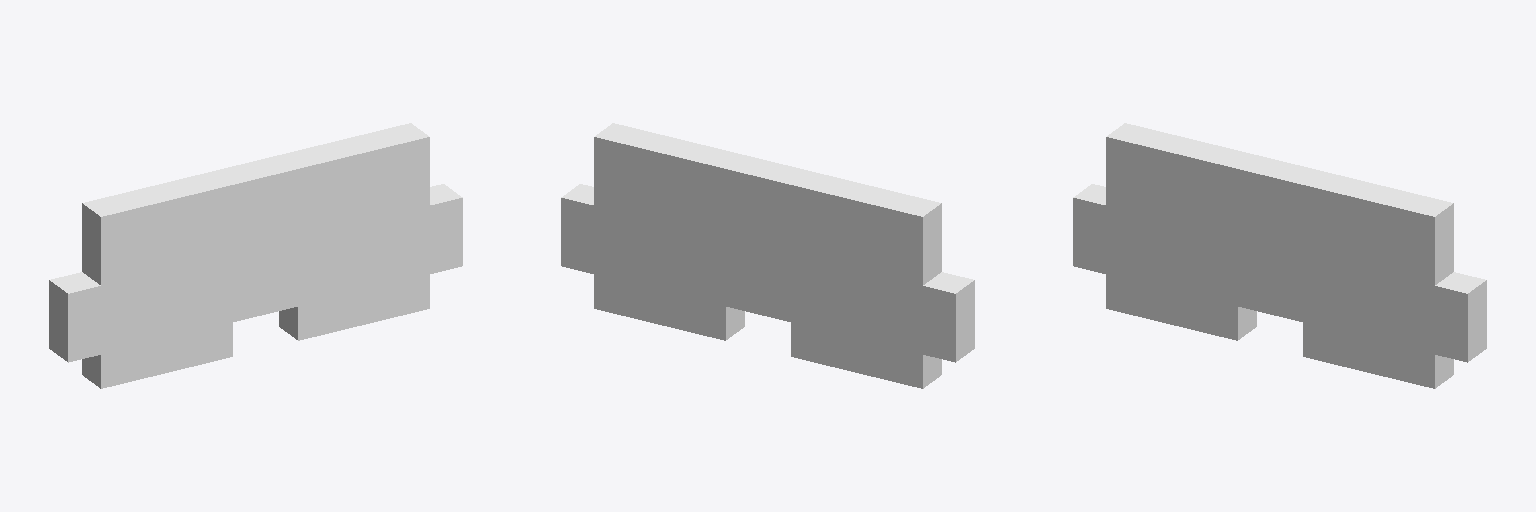
File: boy death.obj
3 renders of one model, left to right at view 1: azimuth 30°, elevation 25°; view 2: azimuth 150°, elevation 25°; view 3: azimuth 330°, elevation 25°, orthographic.
Parts seen in each view (by area): view 1: object 1; view 2: object 1; view 3: object 1.
Boxes of the visible parts, box(x1,y1,x2,y2) form: object 1: box(49, 123, 462, 388); object 1: box(561, 123, 974, 388); object 1: box(1073, 123, 1486, 388).
Bounding box in the file's own units: 1.2 × 0.5 × 0.1.